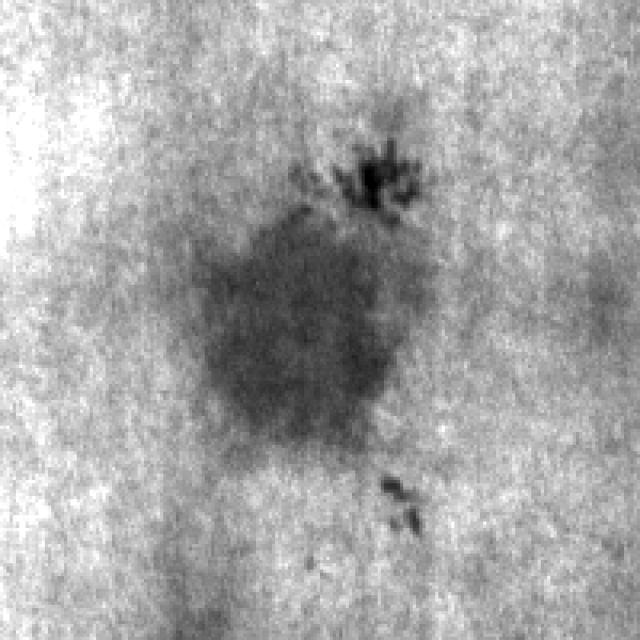patches: (190, 110, 438, 469), (362, 473, 440, 532)
